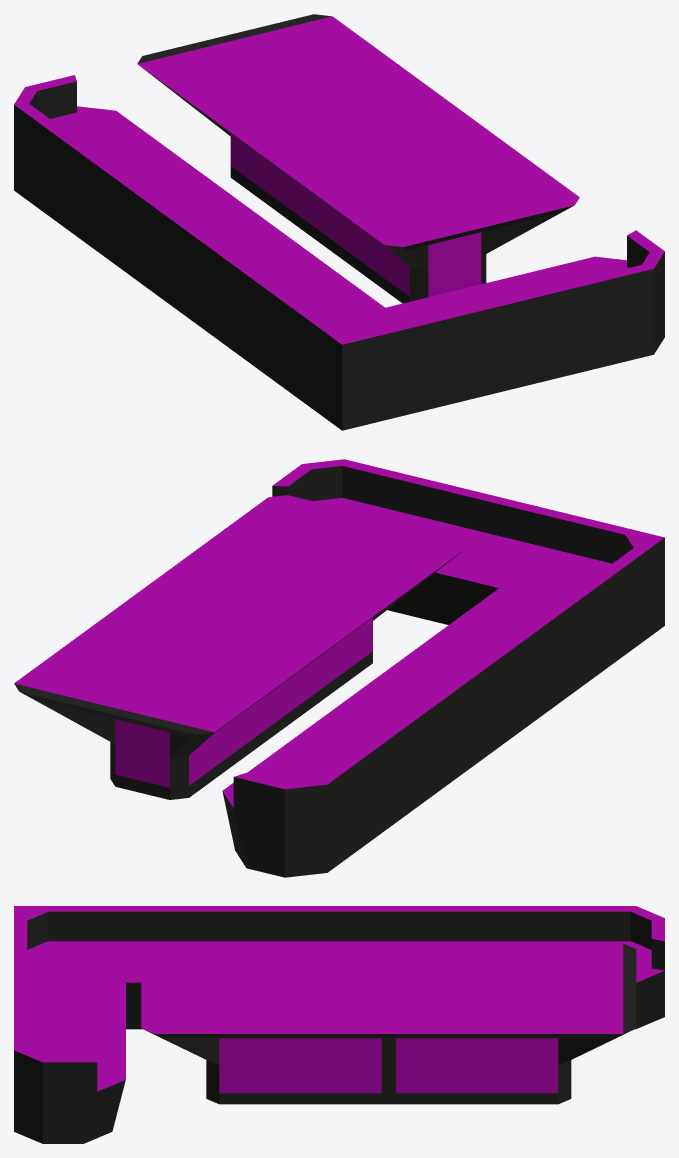
File: Diner_Table_Corner.fbx
3 renders of one model, top to bottom at view 1: azimuth 30°, elevation 25°; view 2: azimuth 150°, elevation 25°; view 3: azimuth 270°, elevation 25°, orthographic. The views are drawn at different scales.
Parts seen in each view (by area): view 1: Diner_Table_Corner; view 2: Diner_Table_Corner; view 3: Diner_Table_Corner.
Part boxes in pixels (left/top/right/bottom): Diner_Table_Corner: left=14, top=14, right=664, bottom=430; Diner_Table_Corner: left=14, top=459, right=664, bottom=877; Diner_Table_Corner: left=14, top=906, right=664, bottom=1143.
Size of the model in its own units: 4.76 by 8.38 by 1.39.
